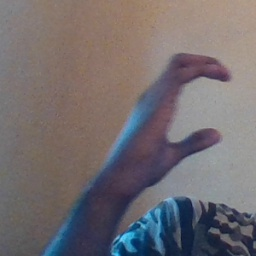C: (132, 48, 238, 166)
